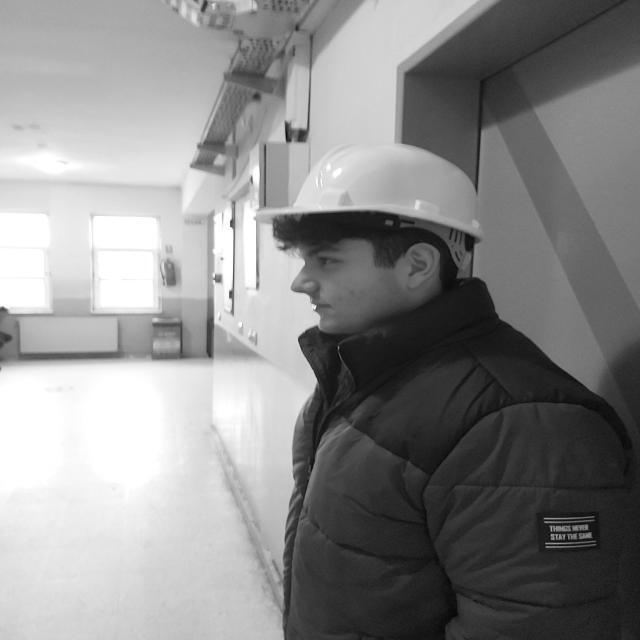safety_helmet: (255, 144, 484, 280)
